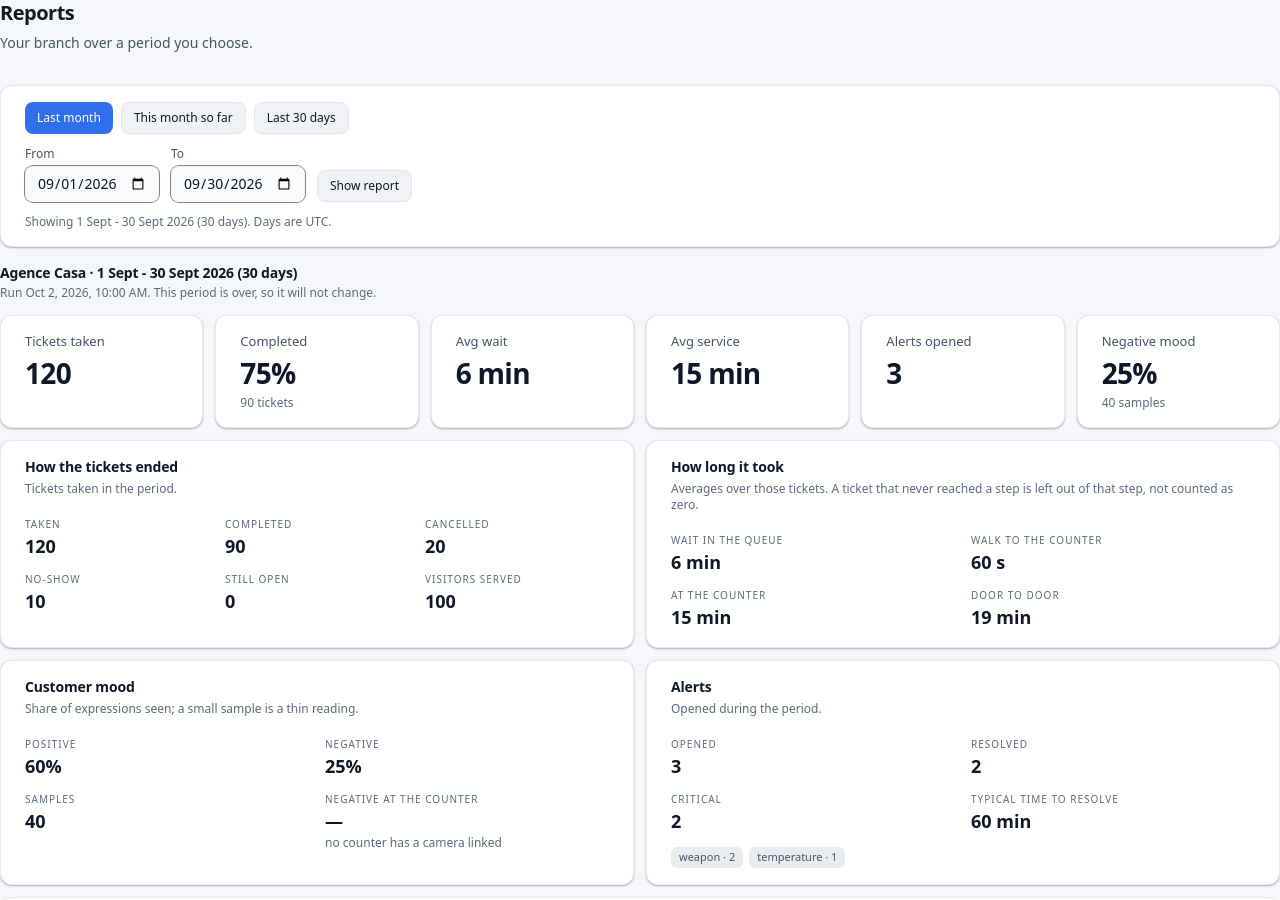
Scenario: Reports › refuses a future end date
Expected: the heading "Agence Casa · 1 Sept - 30 Sept 2026 (30 days)" is shown, [0,263,297,282]
Type "2999-01-01" into the date field labelled "To" at (238, 184), box [171,166,305,202]
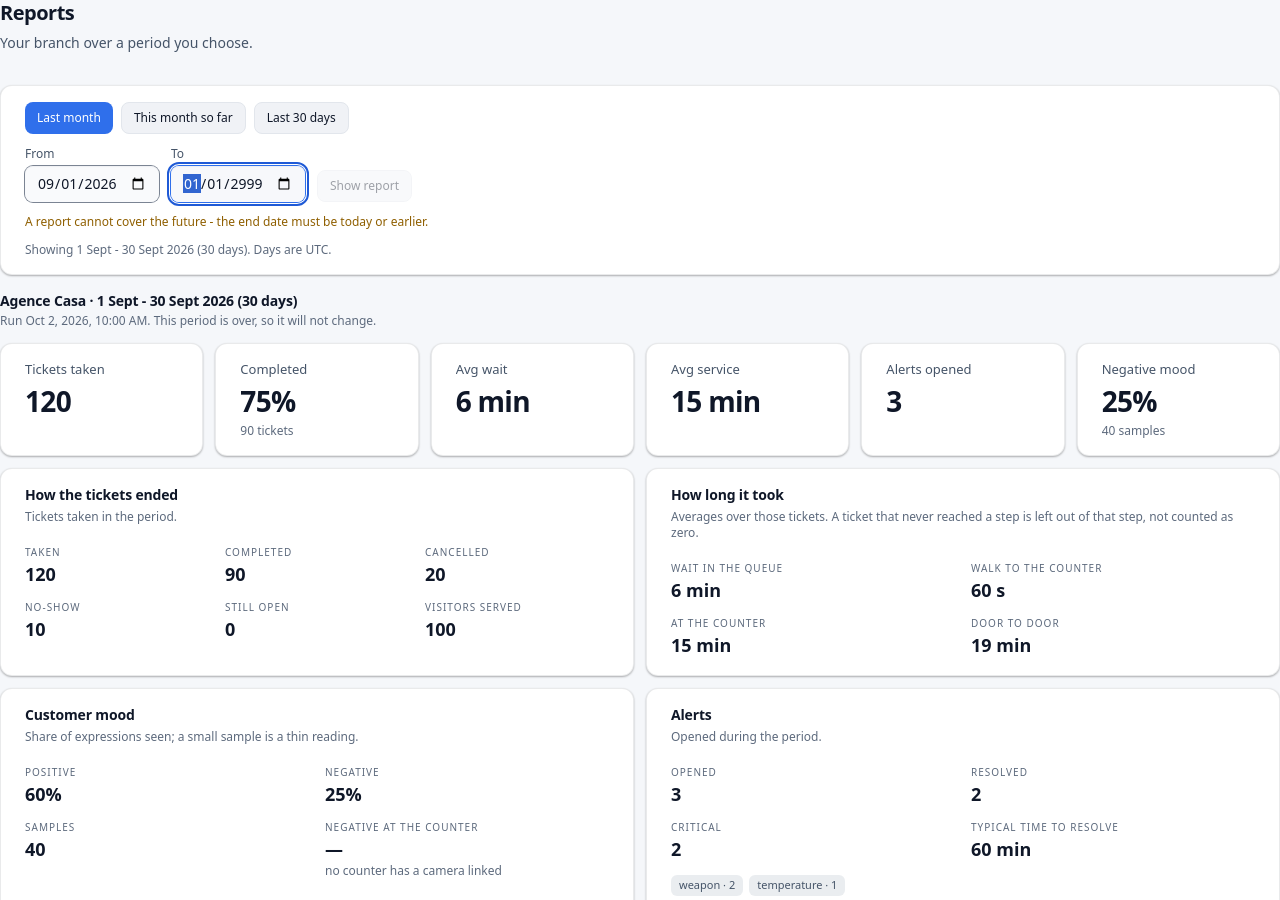
Result: the message shows "future" at [25,213,428,230]
